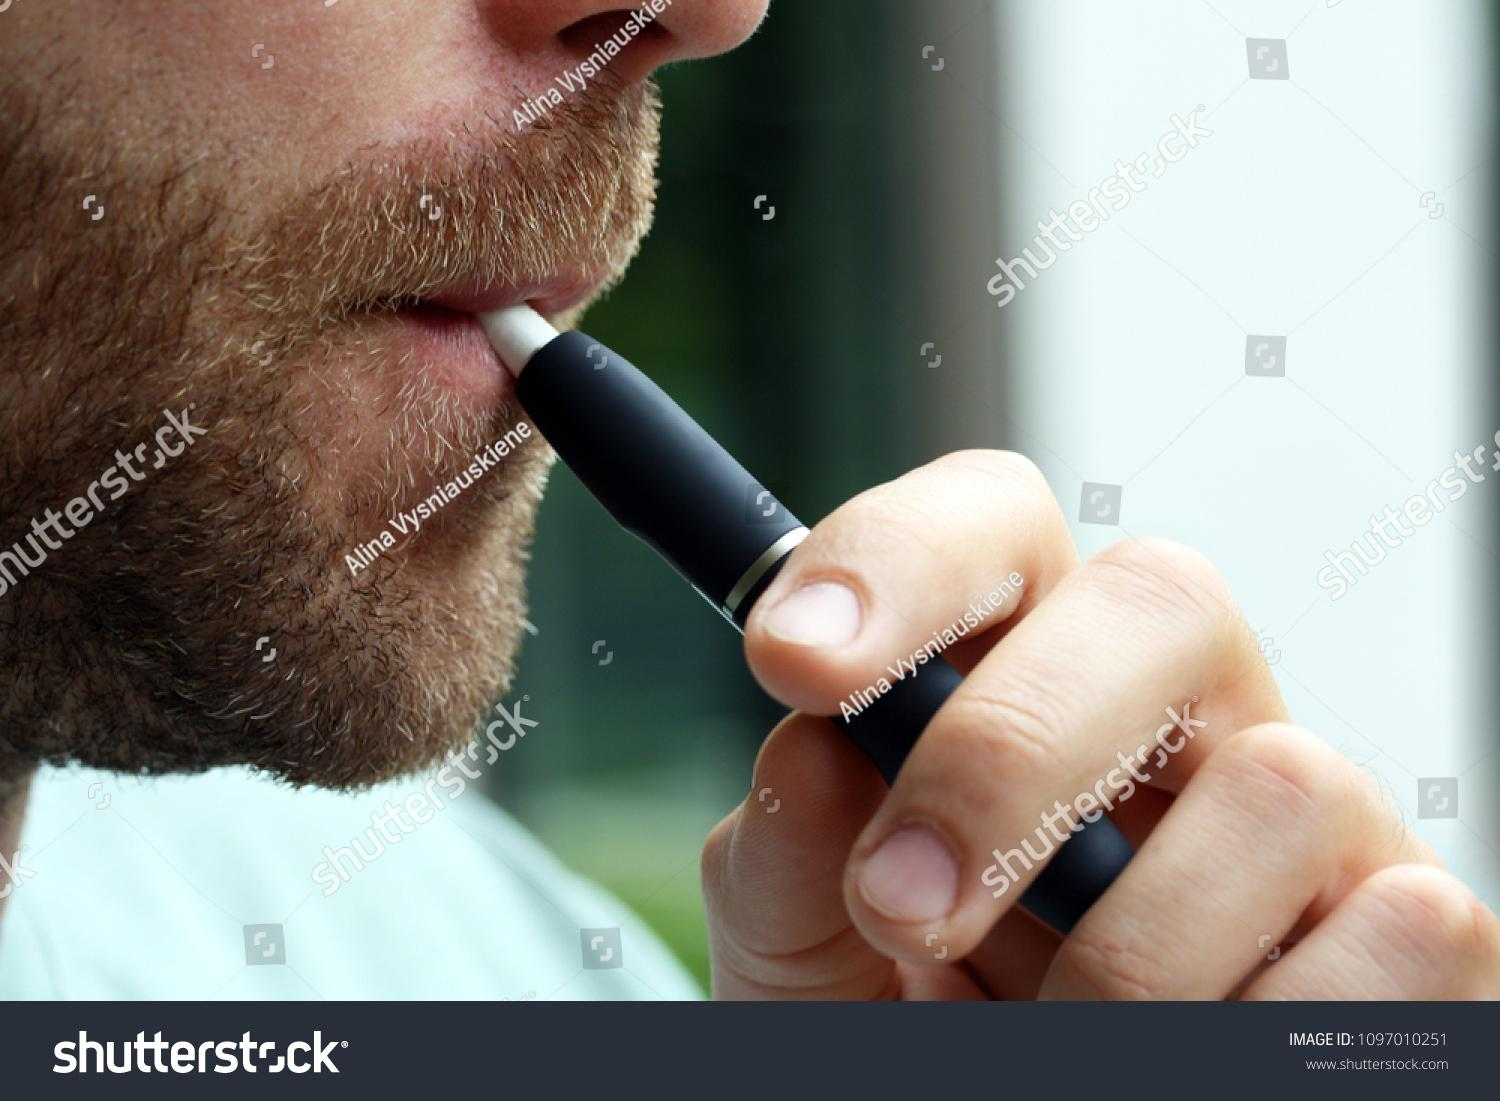iqos: (476, 301, 1140, 937)
